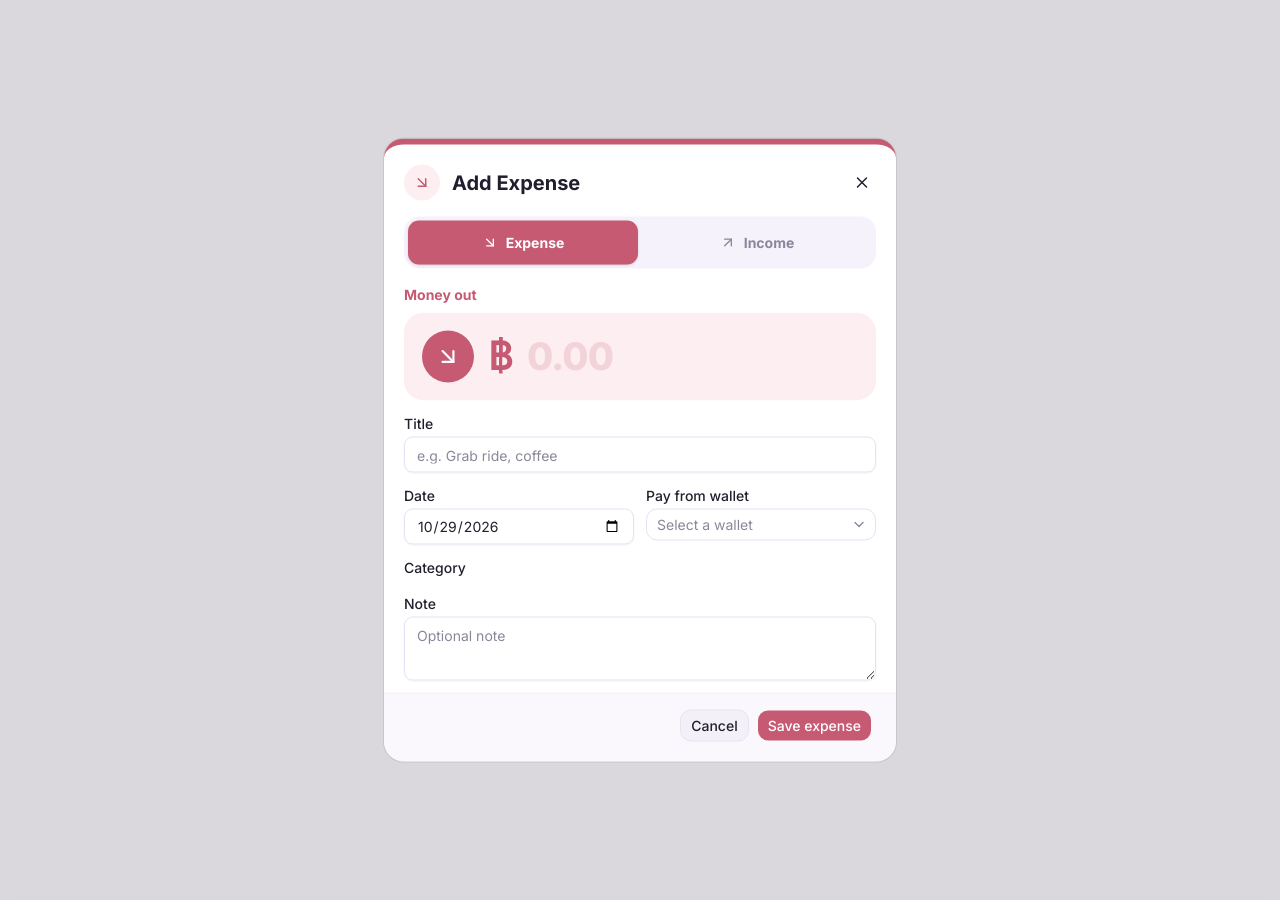
Scenario: AddTransactionModal — US3-1 async create (Add mode only) › clears the stale submission error once the user edits a field
Step 1. Type "Grab ride" into the field labelled "Title" → (640, 454), box [404,436,876,472]
Step 2. Type "120" into the field labelled "Money out" → (692, 356), box [527,334,858,379]
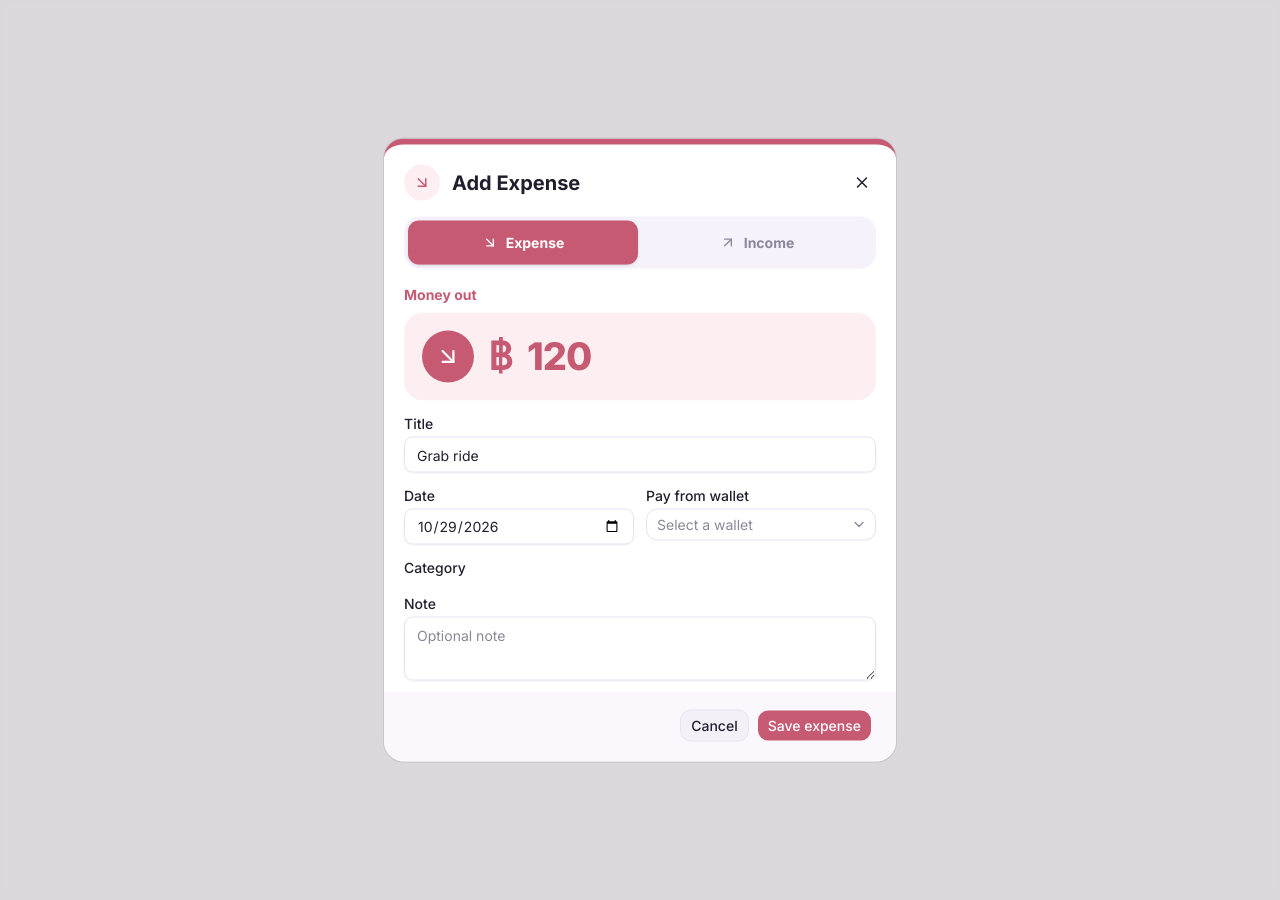
Step 3. Type "2026-10-03" into the date field labelled "Date" → (519, 526), box [404,508,634,544]
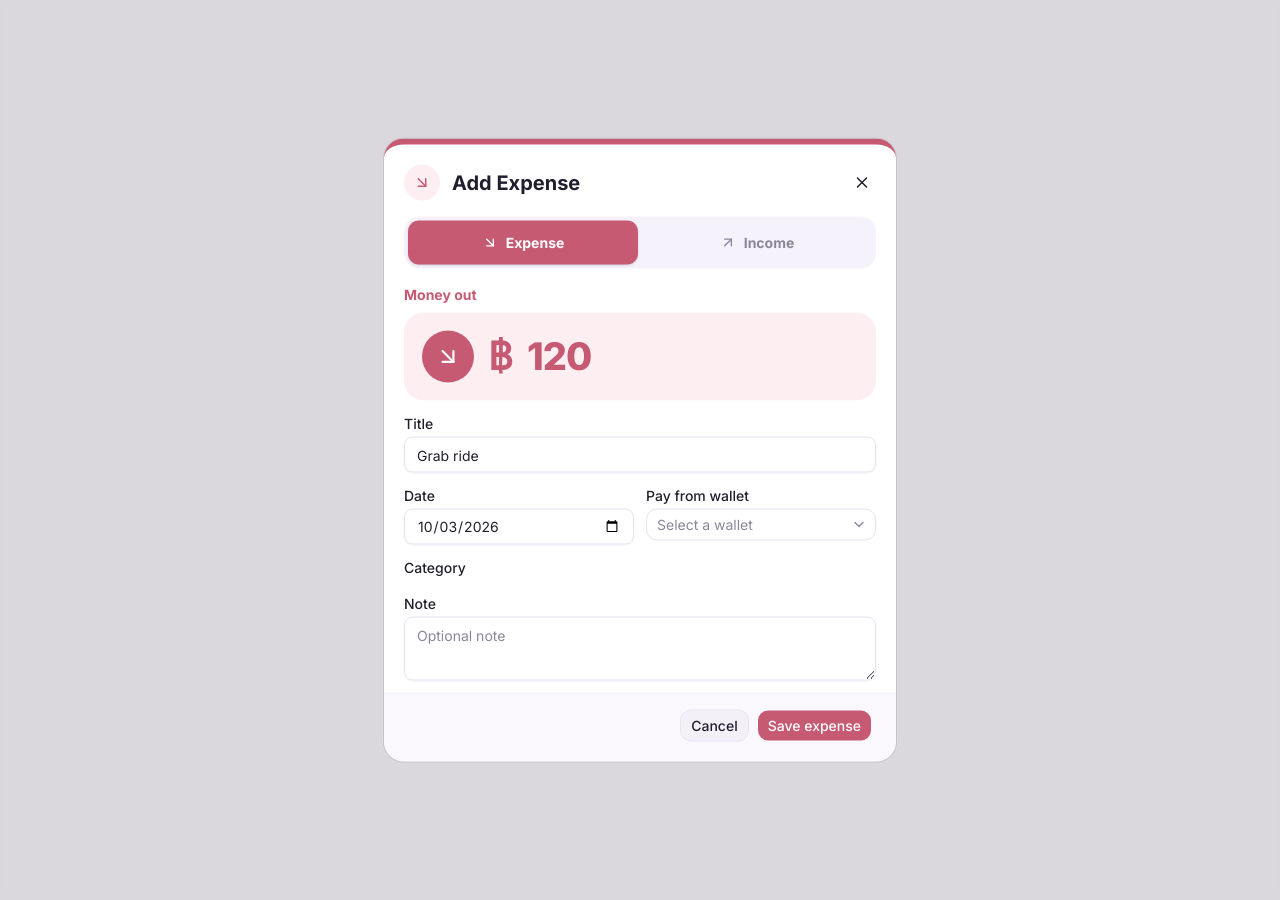
Step 4. Click the dropdown named "Pay from wallet" → (761, 524), box [646,508,876,540]
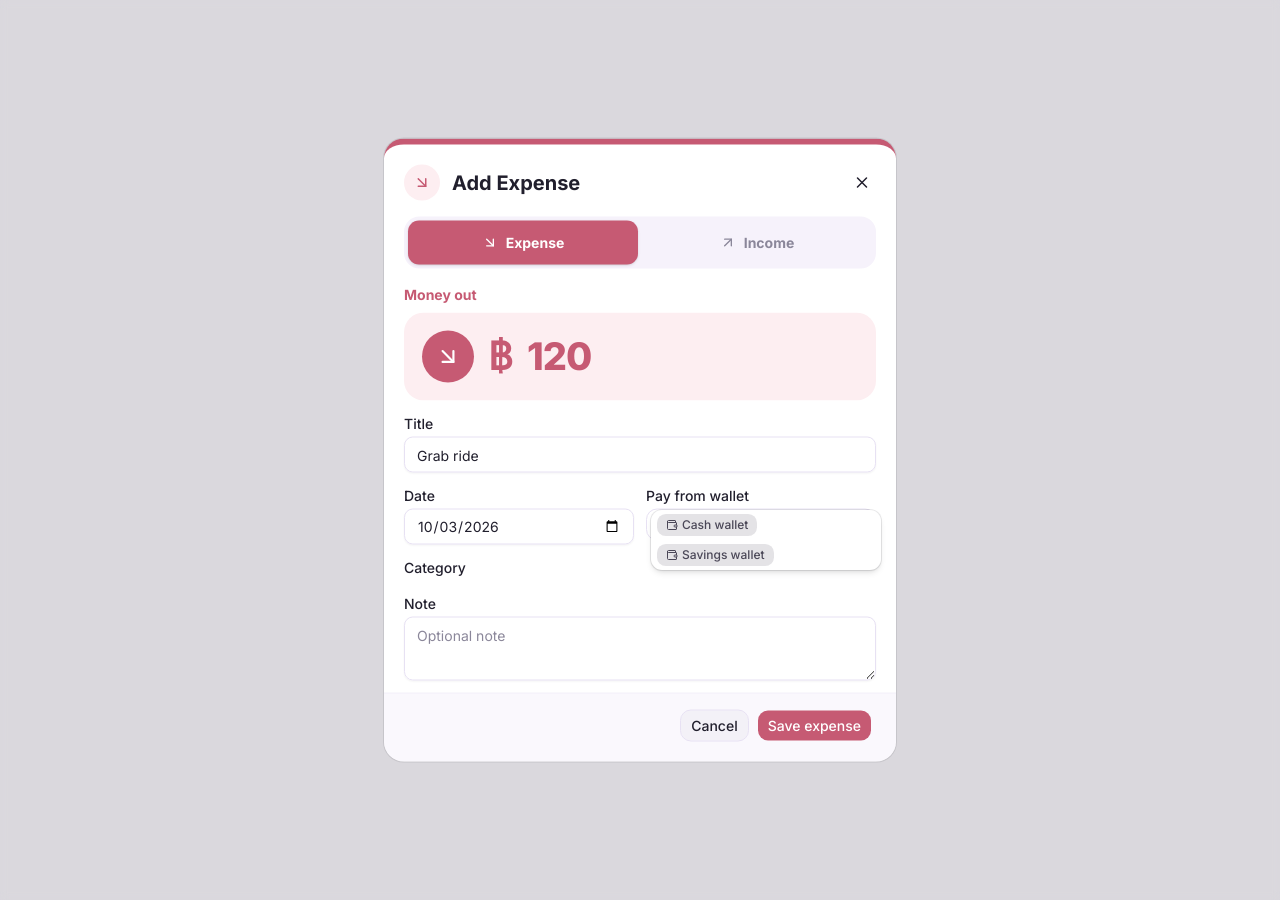
Step 5. Click the option "Cash wallet" → (707, 524), box [657,514,757,536]
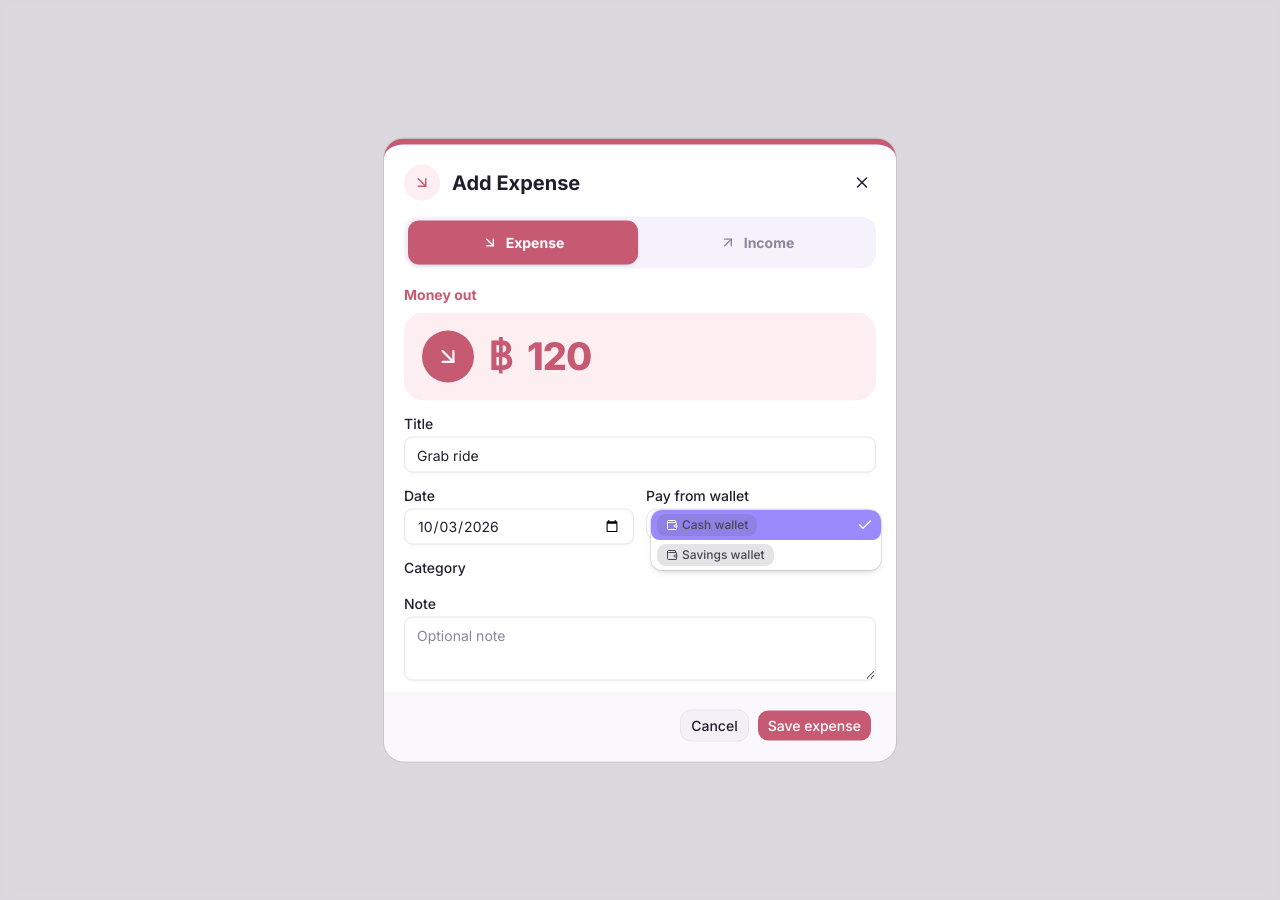
Step 6. Click the button "Save expense" → (814, 726), box [757,710,872,742]
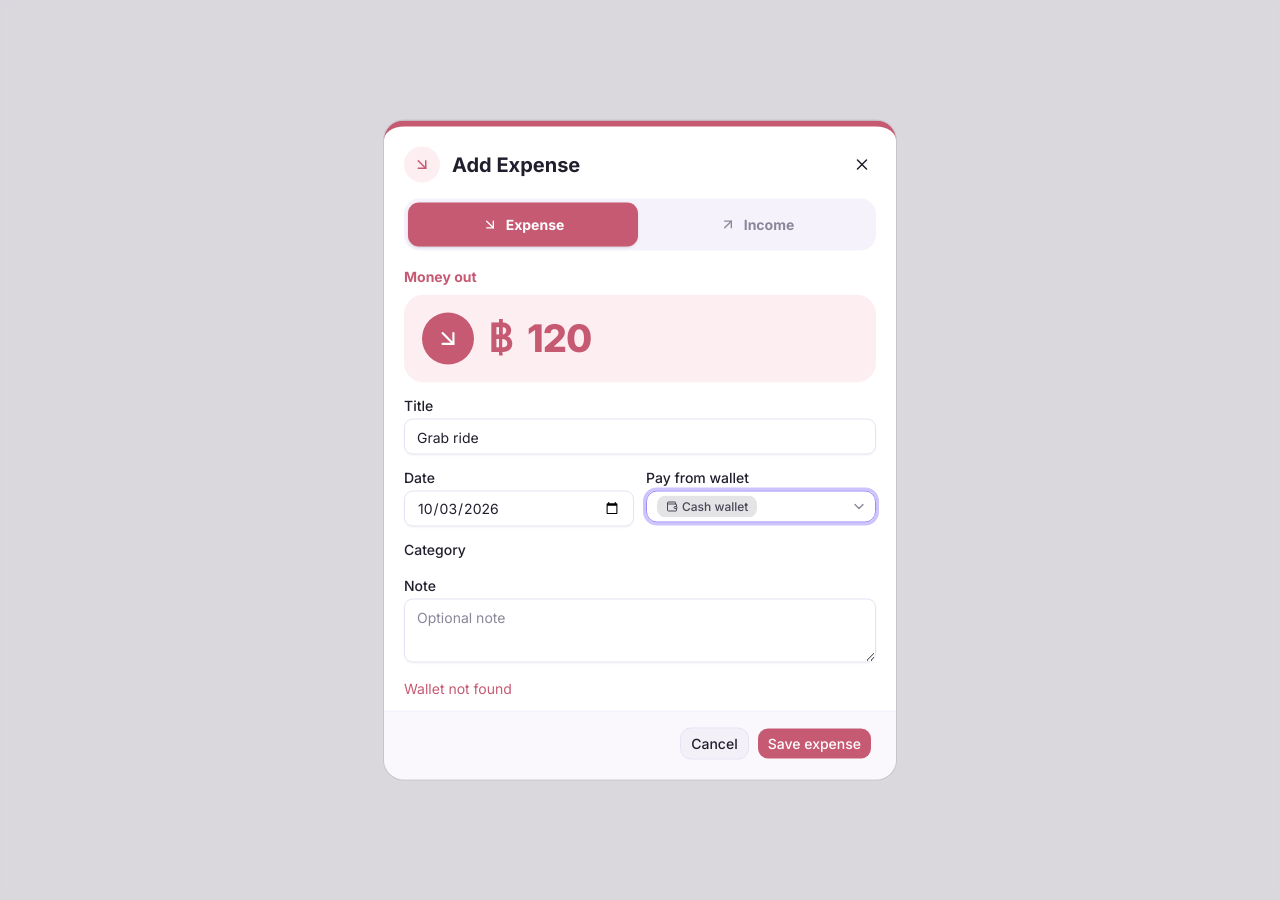
Now the message reads "Wallet not found", box [404,680,512,696]
Step 7. Replace the text in the field labelled "Title" with "Grab ride (retry)" → (640, 436), box [404,418,876,454]
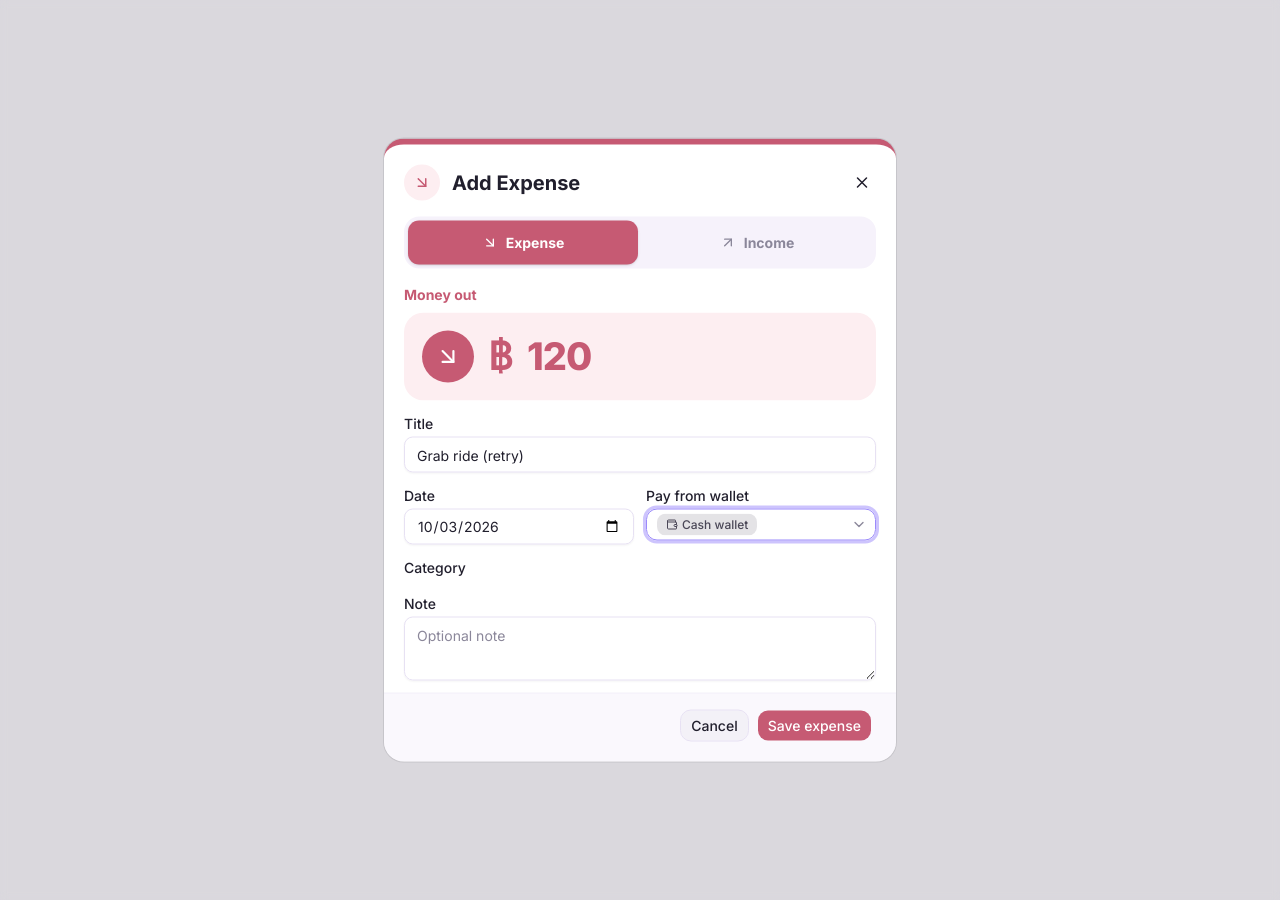
Now the message "Wallet not found" is gone
